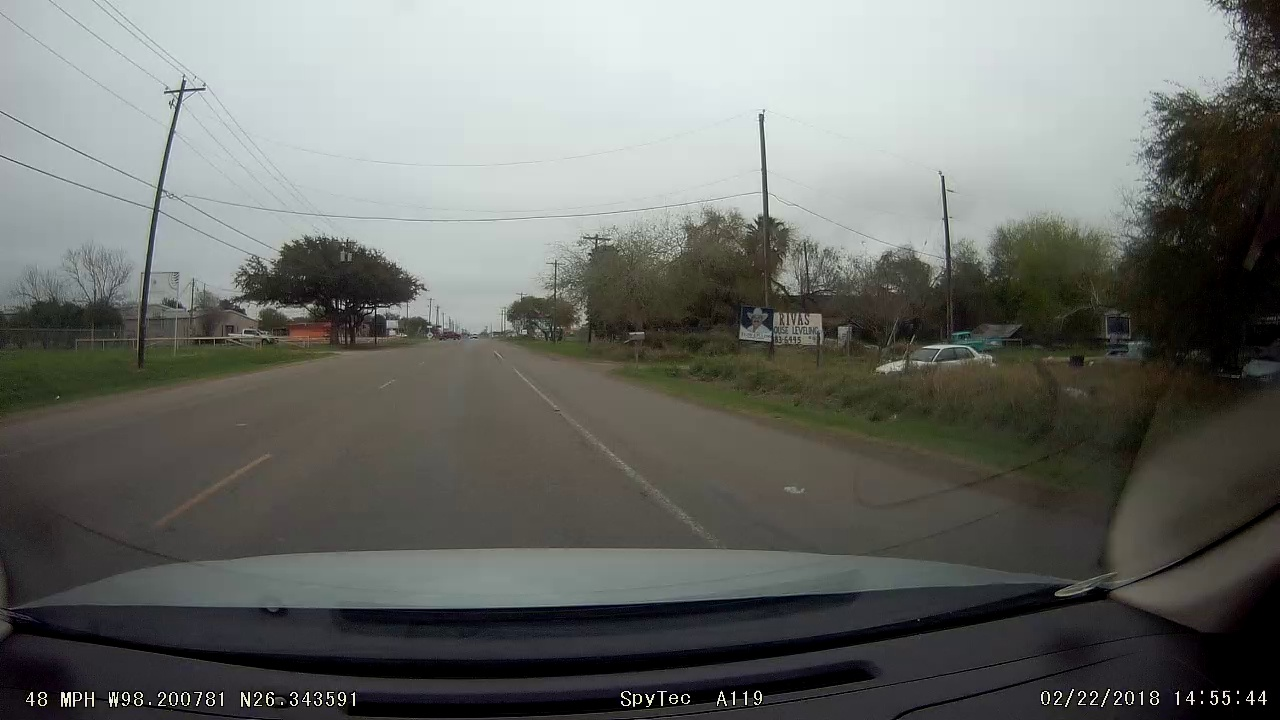blurredLine: (572, 411, 686, 524)
